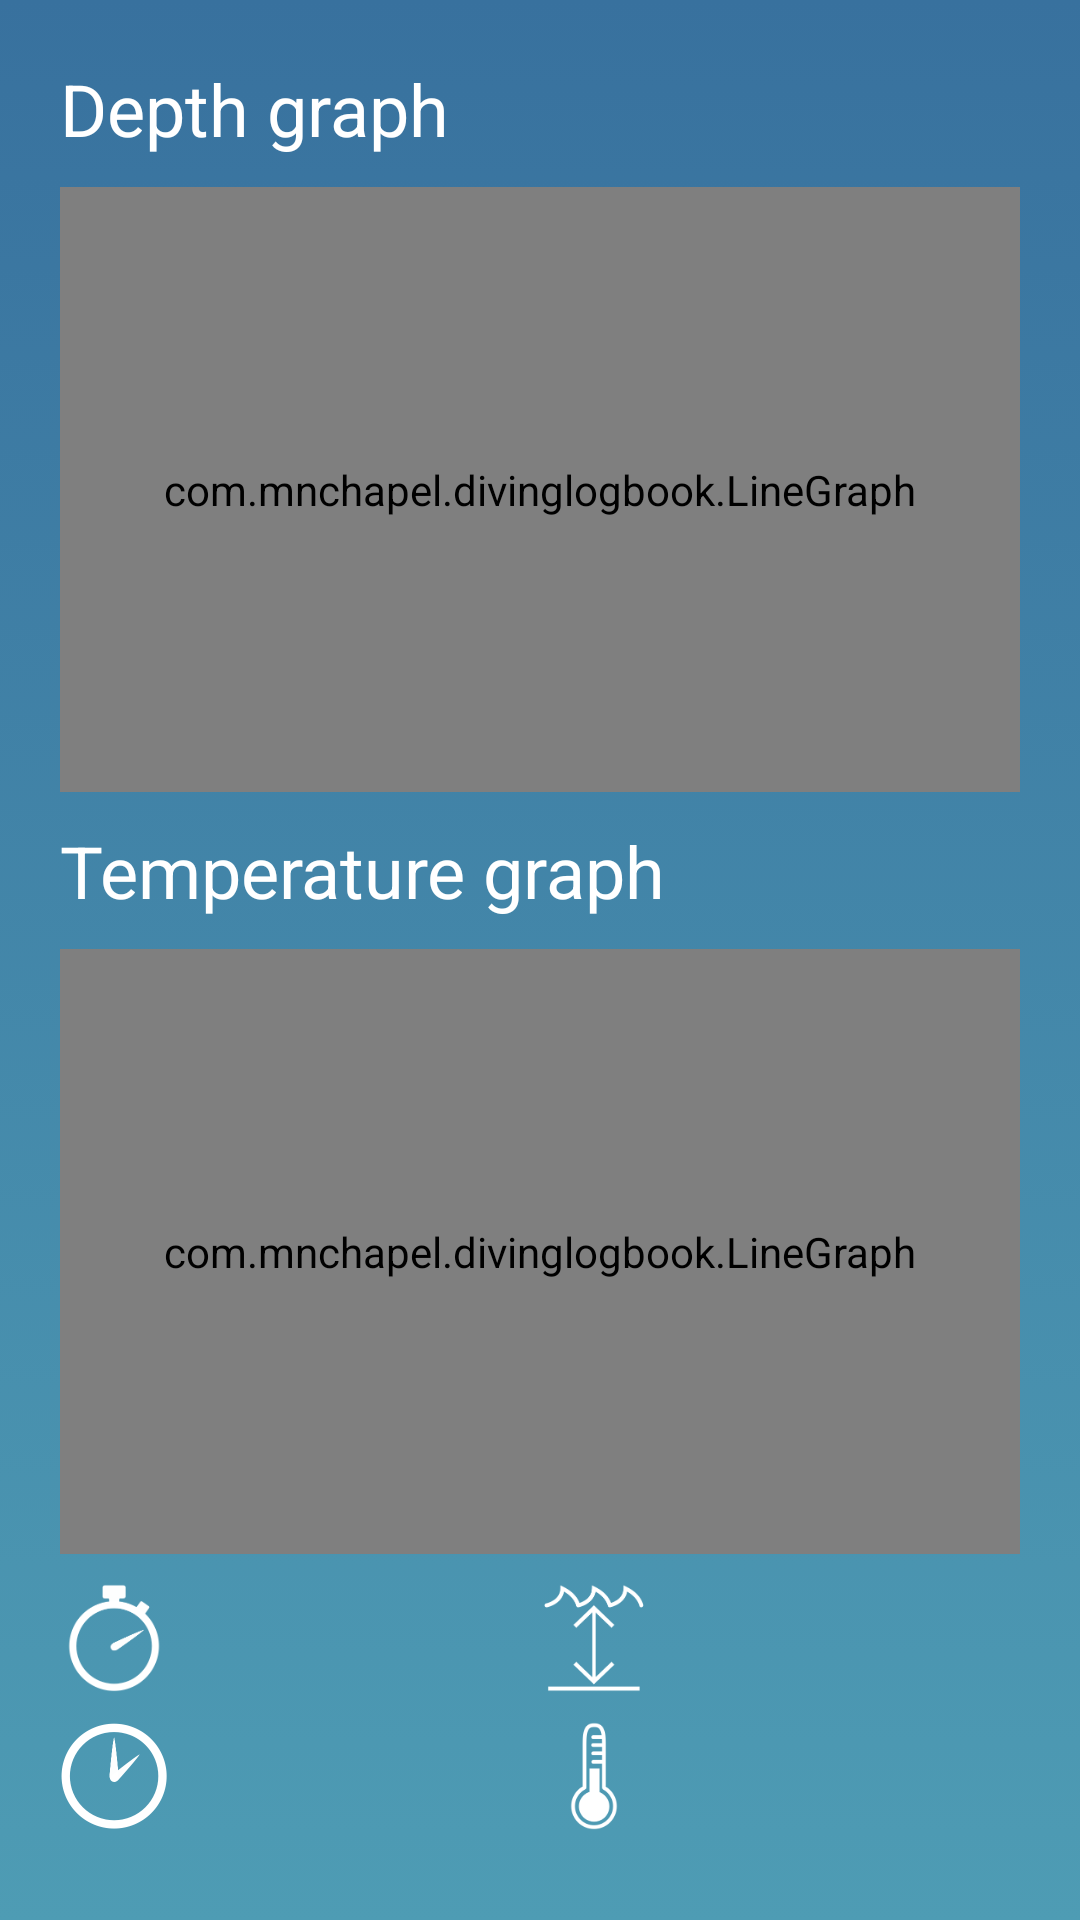

Where icons sit on this 1080*1920 app screen, as (x1, y1, x2, y2):
depth: (544, 1585, 644, 1691)
duration: (69, 1585, 160, 1691)
thermometer: (571, 1723, 617, 1829)
time: (61, 1723, 167, 1829)
